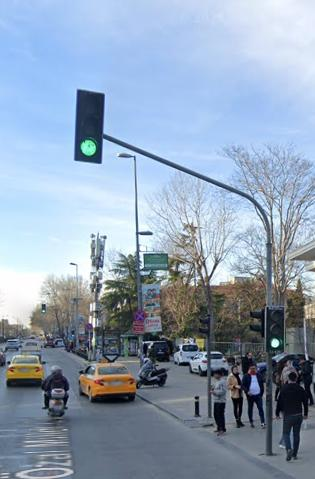greenlight: (73, 87, 104, 167), (264, 305, 285, 356), (41, 304, 46, 314), (71, 330, 75, 338)
